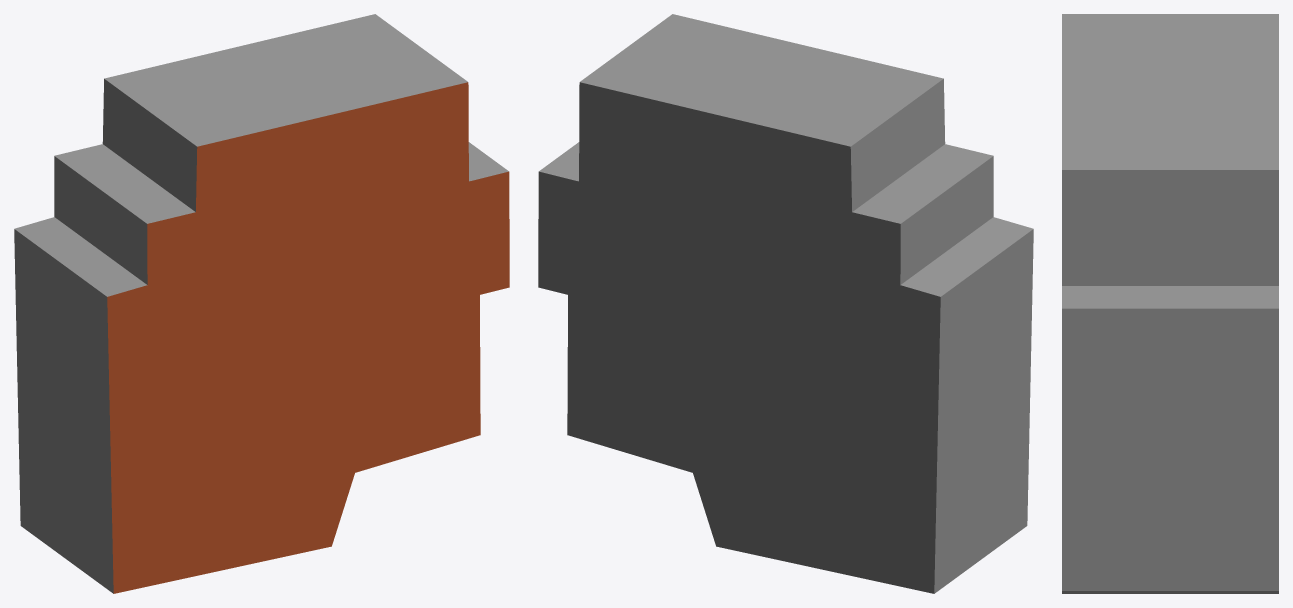
The model's file is construction_2248_assumed_A_Casa_h6m.obj.
The picture shows the model from 3 angles, left to right: view 1: azimuth 30°, elevation 25°; view 2: azimuth 150°, elevation 25°; view 3: azimuth 270°, elevation 25°; orthographic projection. The views are drawn at different scales.
Visible parts, largest first — view 1: construction_2248_assumed_A_Casa; view 2: construction_2248_assumed_A_Casa; view 3: construction_2248_assumed_A_Casa.
Part boxes in pixels (x1=…): construction_2248_assumed_A_Casa: x1=14, y1=14, x2=509, y2=593; construction_2248_assumed_A_Casa: x1=538, y1=14, x2=1033, y2=593; construction_2248_assumed_A_Casa: x1=1062, y1=14, x2=1278, y2=593.
Size of the model in its own units: 14.98 by 15.39 by 6.
